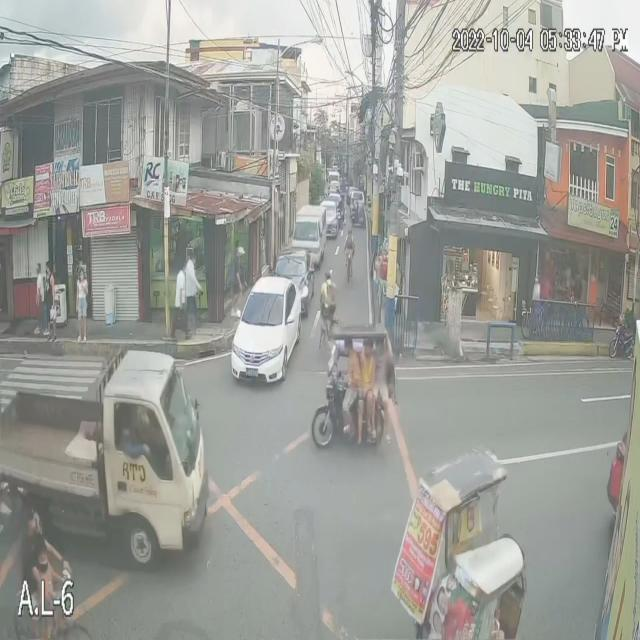Invalid: (321, 265, 334, 286), (346, 222, 355, 234)
